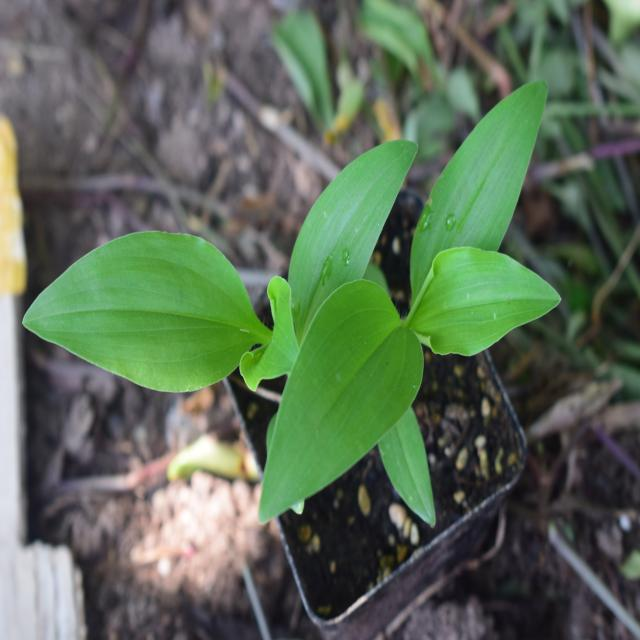Common Dayflower: (233, 65, 552, 539), (45, 219, 244, 424)
